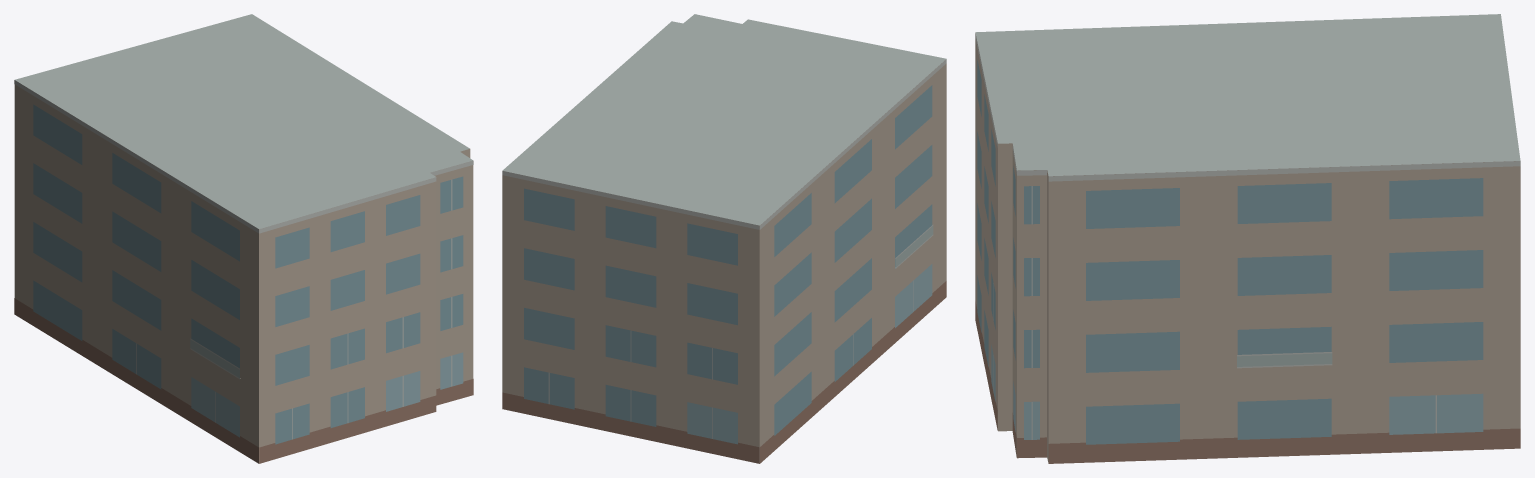
File: survey-upis-32663098.glb
The picture shows the model from 3 angles, left to right: view 1: azimuth 30°, elevation 25°; view 2: azimuth 150°, elevation 25°; view 3: azimuth 270°, elevation 25°; orthographic projection. The views are drawn at different scales.
Visible parts, largest first — view 1: survey-upis-32663098.tmp; view 2: survey-upis-32663098.tmp; view 3: survey-upis-32663098.tmp.
Part boxes in pixels (bbox=[...]): survey-upis-32663098.tmp: bbox=[14, 14, 473, 463]; survey-upis-32663098.tmp: bbox=[502, 14, 946, 463]; survey-upis-32663098.tmp: bbox=[975, 14, 1520, 463].
Size of the model in its own units: 15.92 by 13.15 by 22.6.
